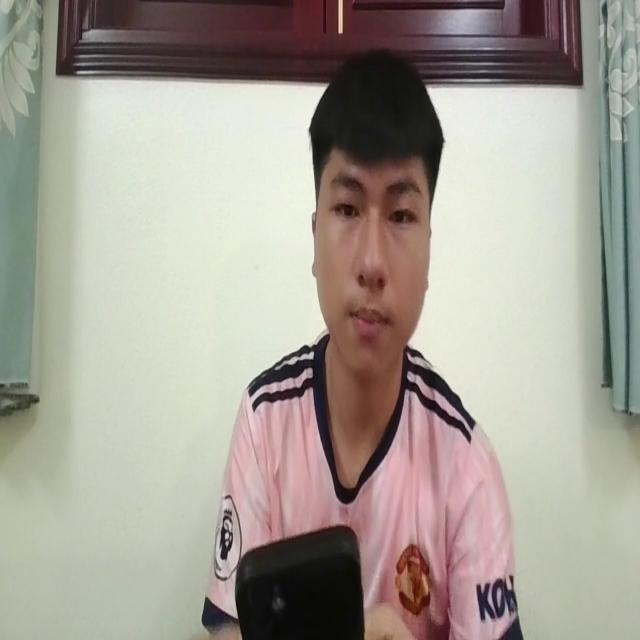phone: (228, 525, 364, 640)
student: (207, 41, 519, 640)
